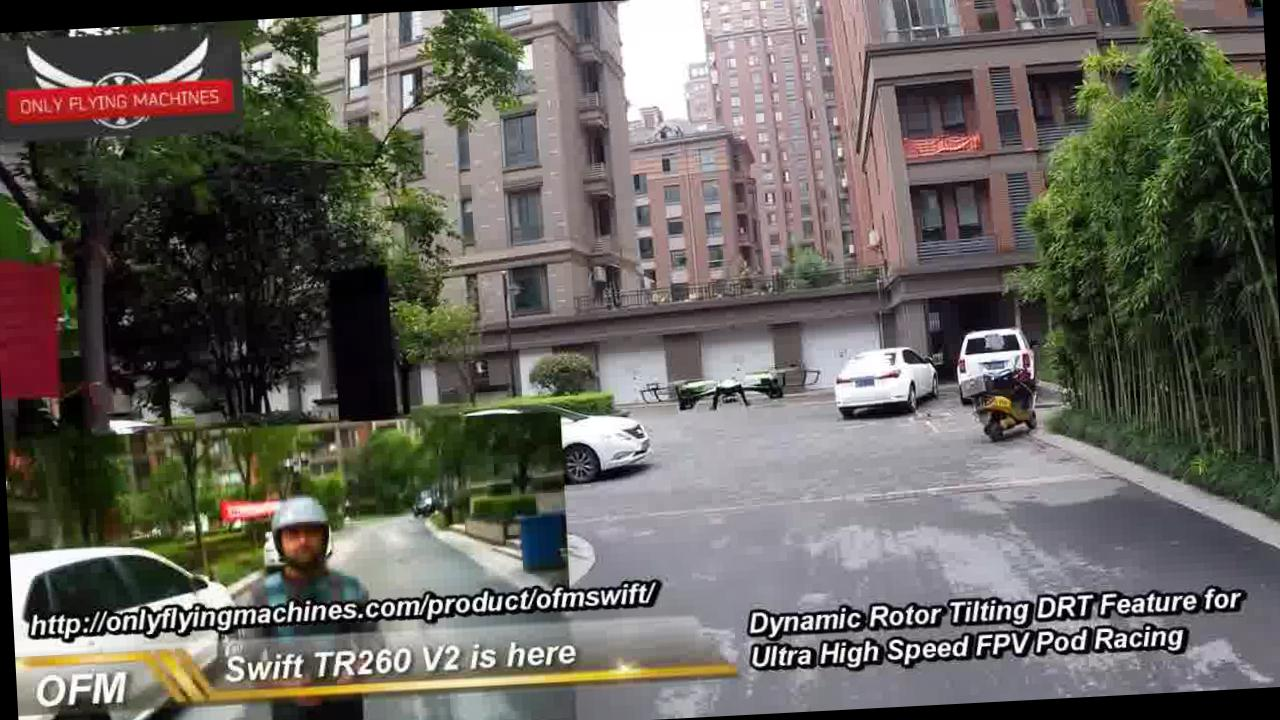drone: (633, 354, 829, 419)
